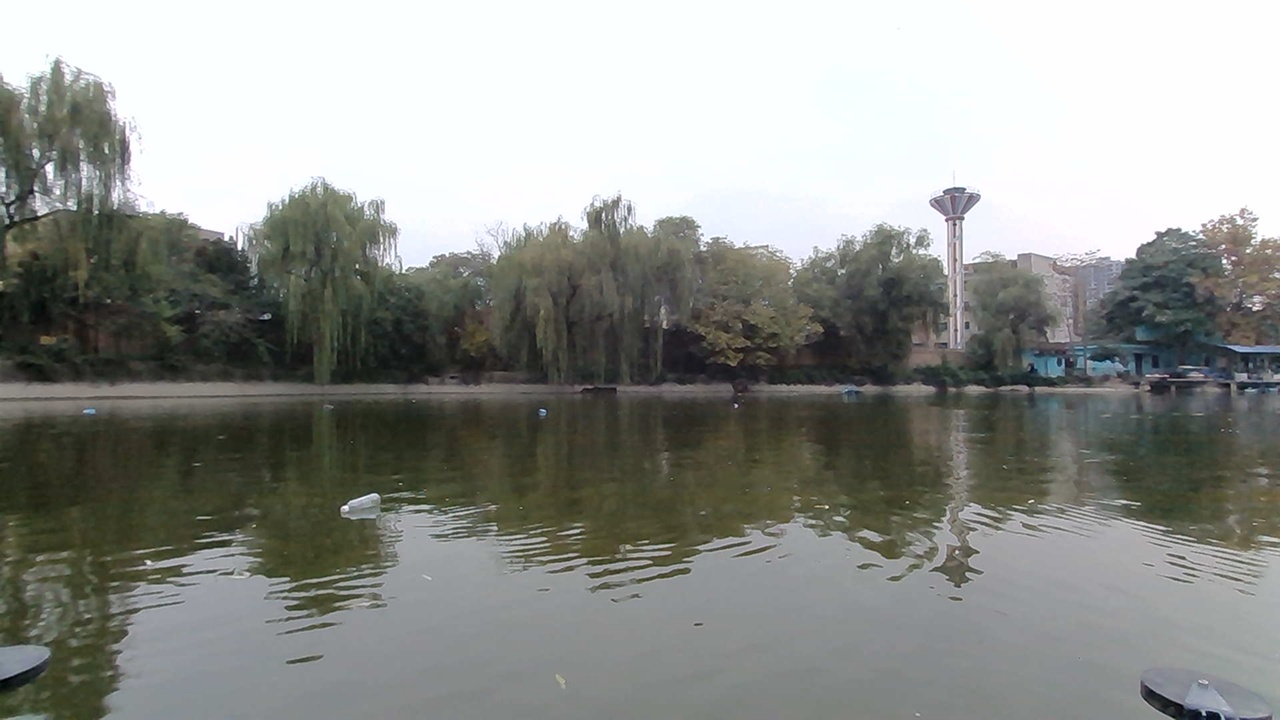bottle: (335, 492, 394, 521), (532, 404, 563, 422)
